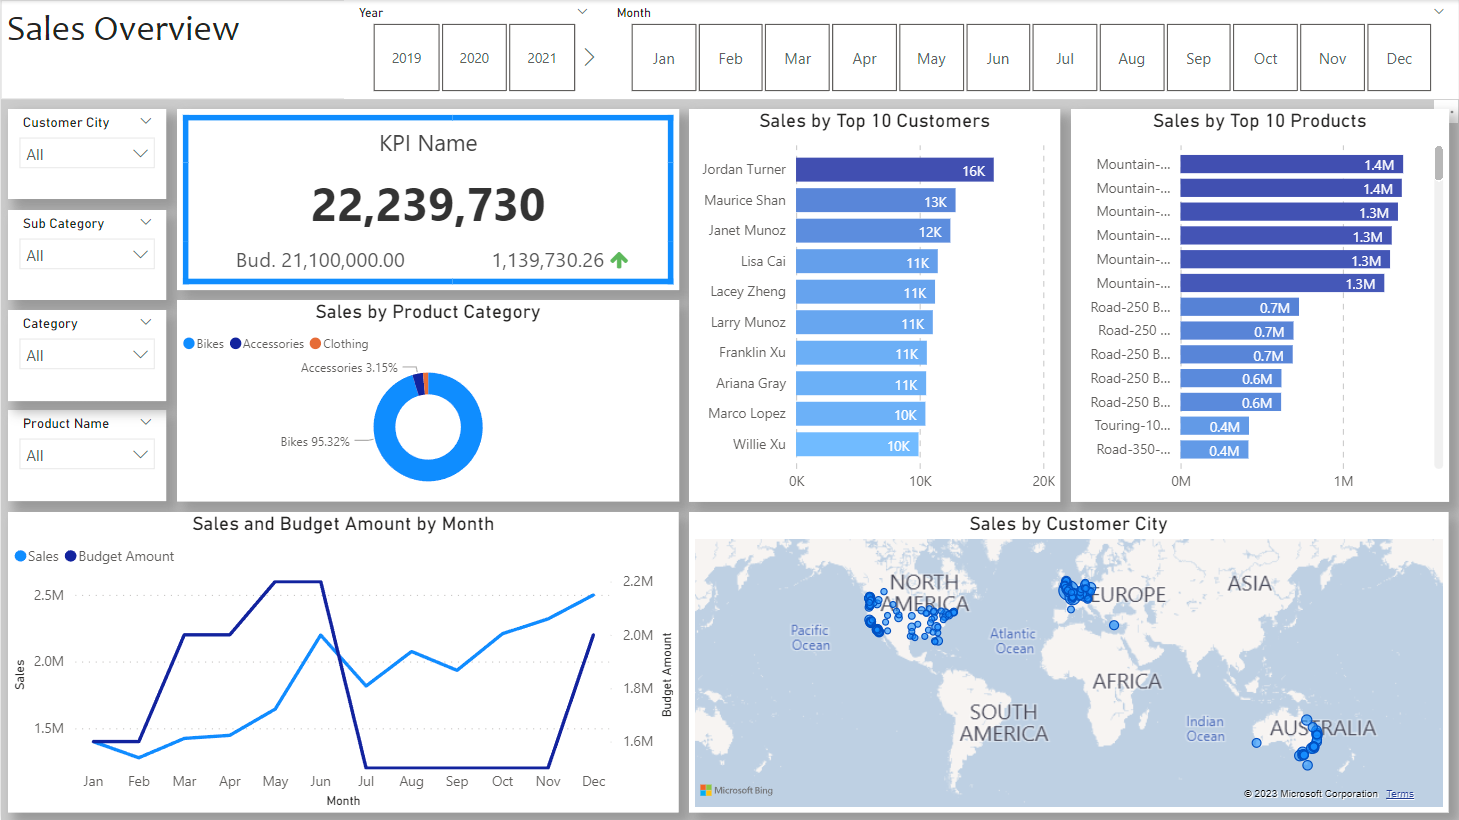

What the dashboard file says about the page in this screenshot:
{"tool":"powerbi","page":{"name":"Sales","canvas":[1280,720],"ordinal":0},"visuals":[{"type":"textbox","box":[0,0,1280,87.2],"z":0},{"type":"slicer","fields":{"Values":["DIM_Customer.Customer City"]},"box":[6.3,95.8,139.1,79.5],"z":1000},{"type":"slicer","fields":{"Values":["DIM_Product.Sub Category"]},"box":[6.3,184.3,139.1,79.5],"z":2000},{"type":"slicer","fields":{"Values":["DIM_Product.Product Name"]},"box":[6.3,360.4,139.1,80.4],"z":3000},{"type":"slicer","fields":{"Values":["DIM_Product.Product Category"]},"box":[6.3,271.9,139.1,80.4],"z":4000},{"type":"slicer","fields":{"Values":["DIM_Calendar.Year"]},"box":[300.8,0,226.7,86.7],"z":5000},{"type":"slicer","fields":{"Values":["DIM_Calendar.MonthShort"]},"box":[527.5,0,752.5,86.7],"z":6000},{"type":"BBED0A4D4D8D44CE93CF2DAFADEE466C","fields":{"actual":["FACT_InternetSales.Sales"],"target1":["FACT_Budget.Budget Amount"],"target2":["FACT_Budget.Sales - Budget"]},"box":[154.5,95.8,440.8,159],"z":7000},{"type":"donutChart","fields":{"Category":["DIM_Product.Product Category"],"Y":["Key Measures (2).Sales"]},"box":[154.5,263.8,440.8,177.1],"z":8000},{"type":"lineChart","title":"Sales and Budget Amount by Month","fields":{"Y":["Key Measures (2).Sales"],"Category":["DIM_Calendar.MonthShort"],"Y2":["Key Measures (2).Budget Amount"]},"box":[6.3,449.9,589,263.8],"z":9000},{"type":"barChart","title":"Sales by Top 10 Customers","fields":{"Y":["Sum(FACT_InternetSales.SalesAmount)"],"Category":["DIM_Customer.Full Name"]},"box":[604.3,95.8,326.1,345.1],"z":10000},{"type":"barChart","title":"Sales by Top 10 Products","fields":{"Category":["DIM_Product.Product Name"],"Y":["Sum(FACT_InternetSales.SalesAmount)"]},"box":[939.4,95.8,331.5,345.1],"z":11000},{"type":"map","fields":{"Category":["DIM_Customer.Customer City"],"Size":["Key Measures (2).Sales"]},"box":[604.3,449.9,666.6,263.8],"z":12000}]}

Visuals, with their boxes in screenshot pixels (x1, y1, x2, y2), scaled from the page's 1280x720 canvas onto the 1459x820 screenshot:
textbox: pyautogui.locateOnScreen(0, 0, 1458, 99)
slicer - DIM_Customer.Customer City: pyautogui.locateOnScreen(7, 109, 166, 200)
slicer - DIM_Product.Sub Category: pyautogui.locateOnScreen(7, 210, 166, 300)
slicer - DIM_Product.Product Name: pyautogui.locateOnScreen(7, 410, 166, 502)
slicer - DIM_Product.Product Category: pyautogui.locateOnScreen(7, 310, 166, 401)
slicer - DIM_Calendar.Year: pyautogui.locateOnScreen(343, 0, 601, 99)
slicer - DIM_Calendar.MonthShort: pyautogui.locateOnScreen(601, 0, 1458, 99)
BBED0A4D4D8D44CE93CF2DAFADEE466C - FACT_InternetSales.Sales x FACT_Budget.Budget Amount: pyautogui.locateOnScreen(176, 109, 679, 290)
donutChart - DIM_Product.Product Category x Key Measures (2).Sales: pyautogui.locateOnScreen(176, 300, 679, 502)
"Sales and Budget Amount by Month" lineChart: pyautogui.locateOnScreen(7, 512, 679, 813)
"Sales by Top 10 Customers" barChart: pyautogui.locateOnScreen(689, 109, 1061, 502)
"Sales by Top 10 Products" barChart: pyautogui.locateOnScreen(1071, 109, 1449, 502)
map - DIM_Customer.Customer City x Key Measures (2).Sales: pyautogui.locateOnScreen(689, 512, 1449, 813)
